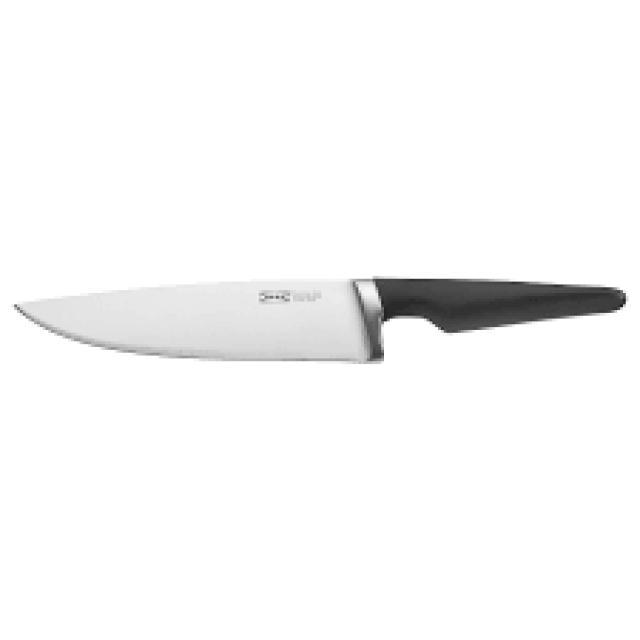knife: (14, 275, 628, 374)
